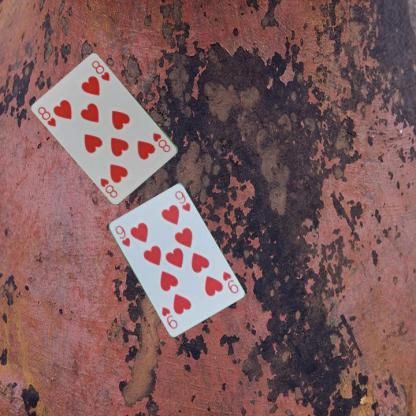8h: (35, 104, 58, 128), (150, 130, 172, 154)
9h: (219, 268, 240, 294), (112, 223, 131, 249)
